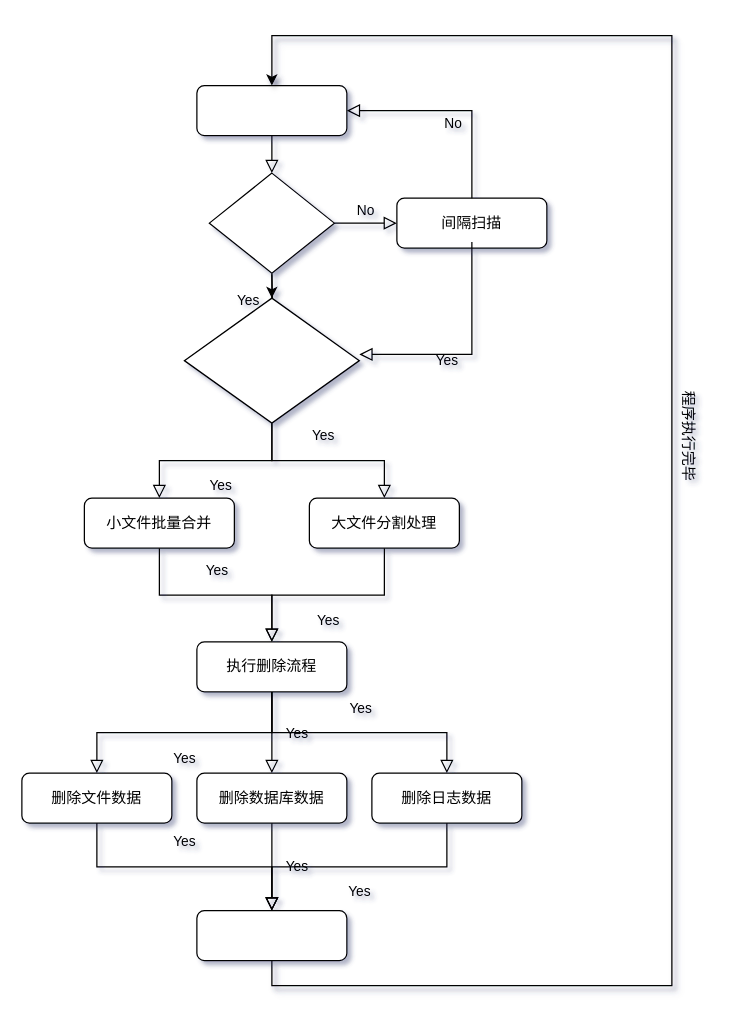
Image size: 730x1034. Some labels were removed from this diagram. The centre of each missing label's shape, as x and y in pixels:
处理CSv文件，根据文件大小选择流程: the point at 271,360
定时删除任务: the point at 271,110
扫描Csv文件夹: the point at 271,222
汇总删除结果: the point at 271,935
